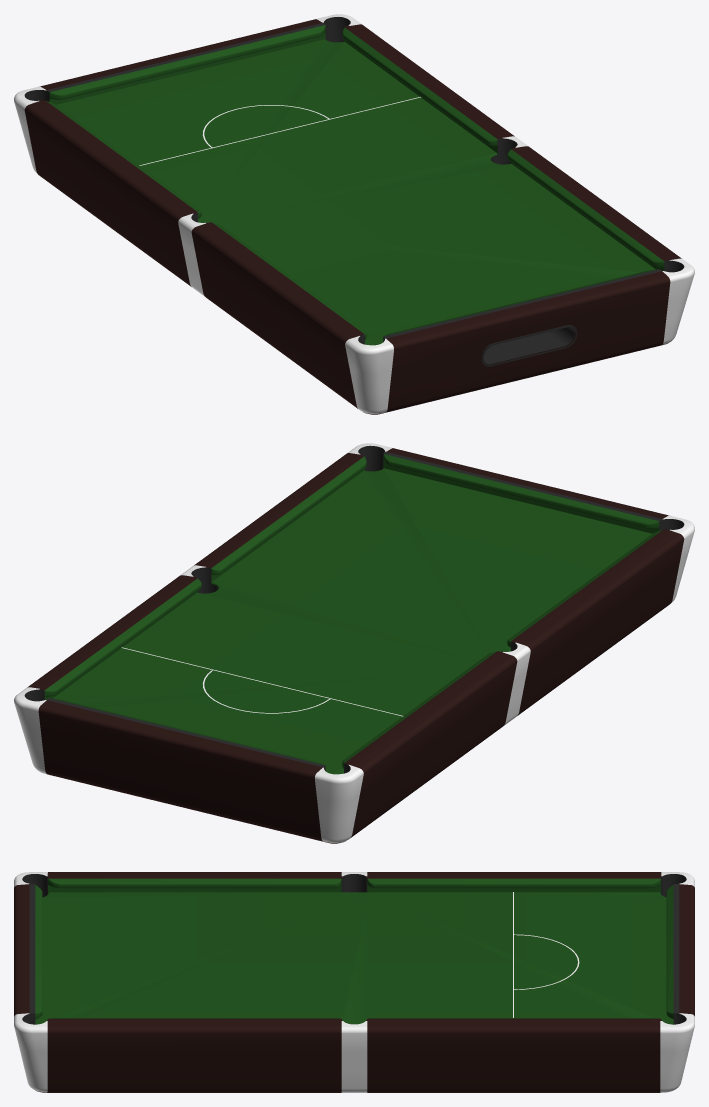
The model's file is PoolTable_Source.fbx.
3 renders of one model, top to bottom at view 1: azimuth 30°, elevation 25°; view 2: azimuth 150°, elevation 25°; view 3: azimuth 270°, elevation 25°, orthographic. The views are drawn at different scales.
Visible parts, largest first — view 1: PoolTable; view 2: PoolTable; view 3: PoolTable.
Part boxes in pixels (x1=…): PoolTable: x1=14, y1=14, x2=694, y2=414; PoolTable: x1=14, y1=443, x2=694, y2=843; PoolTable: x1=14, y1=872, x2=694, y2=1092.
Bounding box in the file's own units: 117 × 25.47 × 212.
